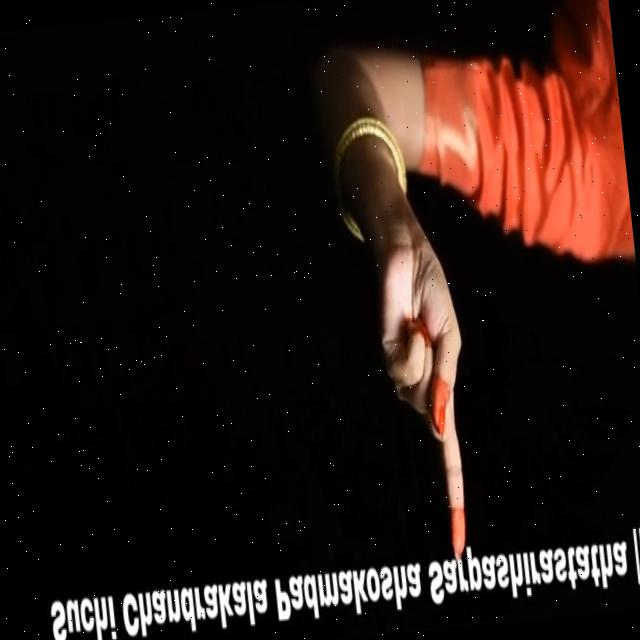Suchi: (363, 218, 497, 557)
bangle: (316, 105, 411, 214)
text: (39, 514, 640, 640)
